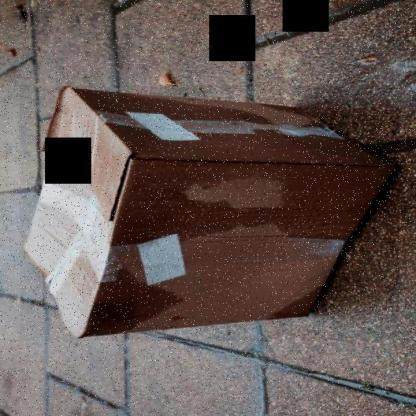-: (20, 86, 399, 341)
